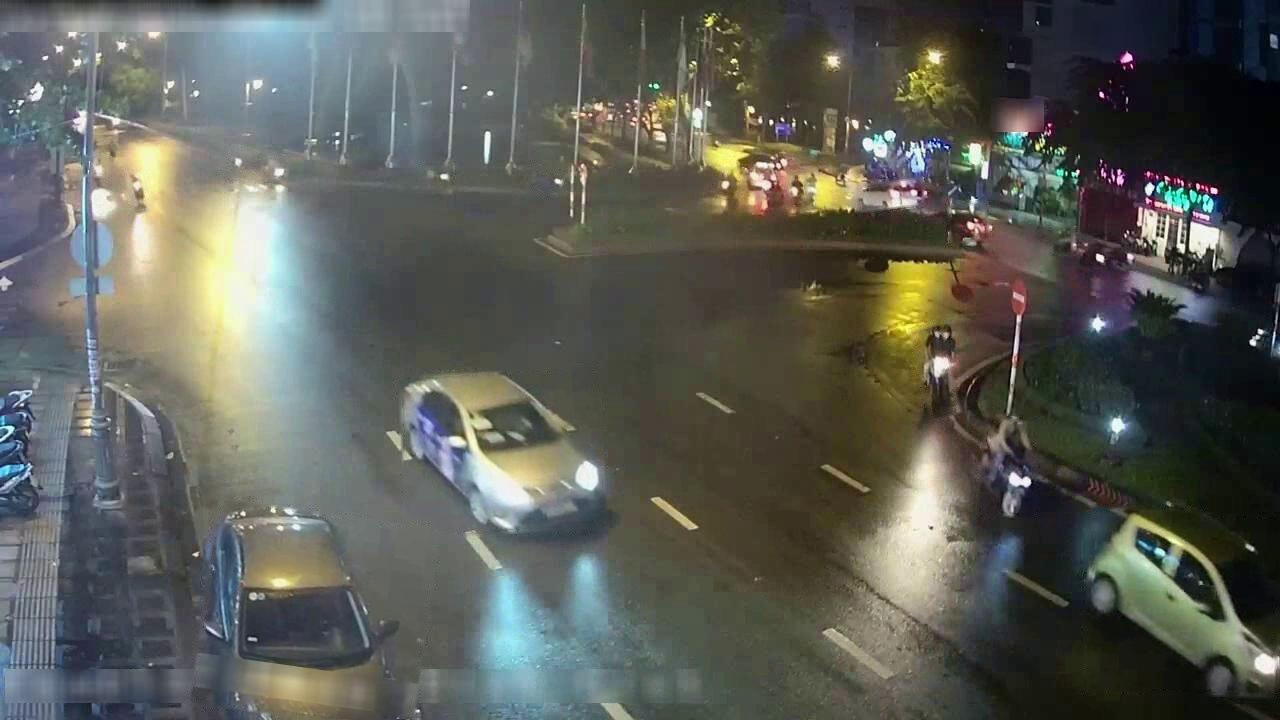Car: (1087, 506, 1279, 697), (399, 372, 605, 534), (202, 506, 385, 670), (856, 180, 925, 210), (0, 463, 39, 515), (948, 213, 989, 249), (0, 426, 28, 467), (864, 160, 897, 189)
Motorcyclist: (981, 417, 1032, 517), (922, 325, 955, 415), (417, 168, 455, 194), (529, 173, 563, 196), (261, 155, 287, 182), (129, 173, 146, 212), (228, 149, 248, 180), (788, 175, 806, 207), (1053, 230, 1077, 254), (719, 172, 740, 197), (91, 160, 105, 185)
Sign: (1011, 279, 1027, 315)
